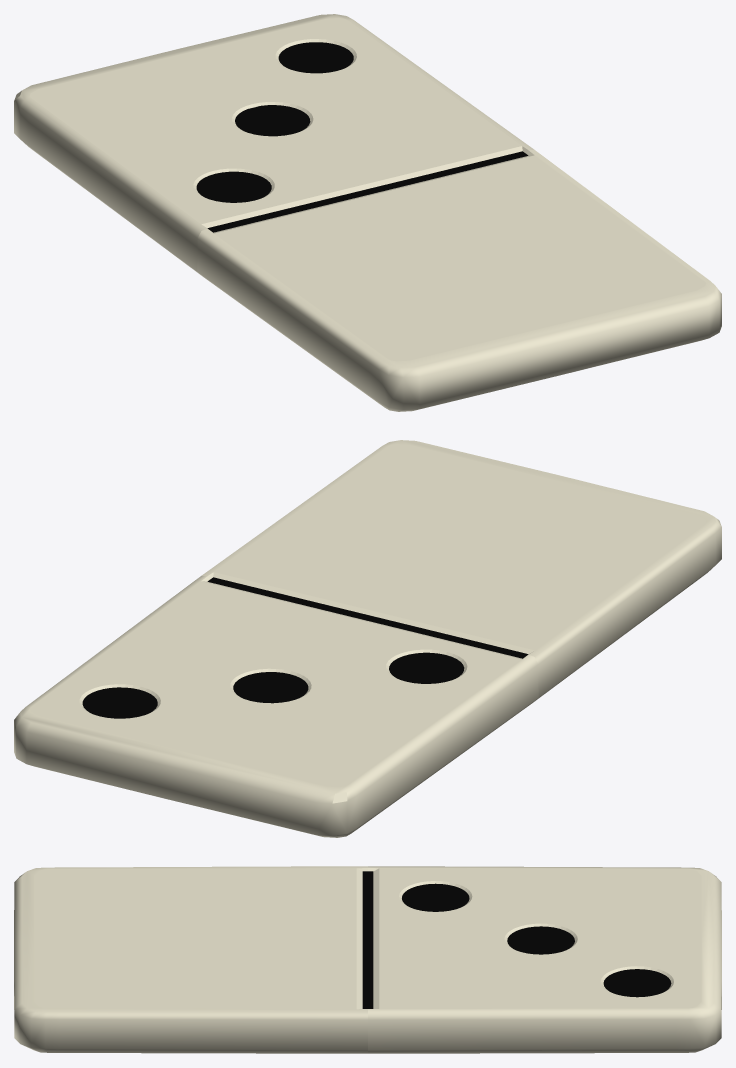
Rendered from Domino_0_3.glb.
3 views of the same model, one above another, from view 1: azimuth 30°, elevation 25°; view 2: azimuth 150°, elevation 25°; view 3: azimuth 270°, elevation 25° (orthographic). The views are drawn at different scales.
Parts seen in each view (by area): view 1: Domino_0_3_A.001, Domino_0_3_B.001; view 2: Domino_0_3_B.001, Domino_0_3_A.001; view 3: Domino_0_3_A.001, Domino_0_3_B.001.
Boxes of the visible parts, x1,y1,x2,y2 form: Domino_0_3_A.001: (197,149,721,411); Domino_0_3_B.001: (14,14,533,276); Domino_0_3_B.001: (14,575,538,837); Domino_0_3_A.001: (202,440,721,702); Domino_0_3_A.001: (14,866,367,1053); Domino_0_3_B.001: (368,866,721,1053).
Size of the model in its own units: 0.7725 by 0.105 by 1.54.
